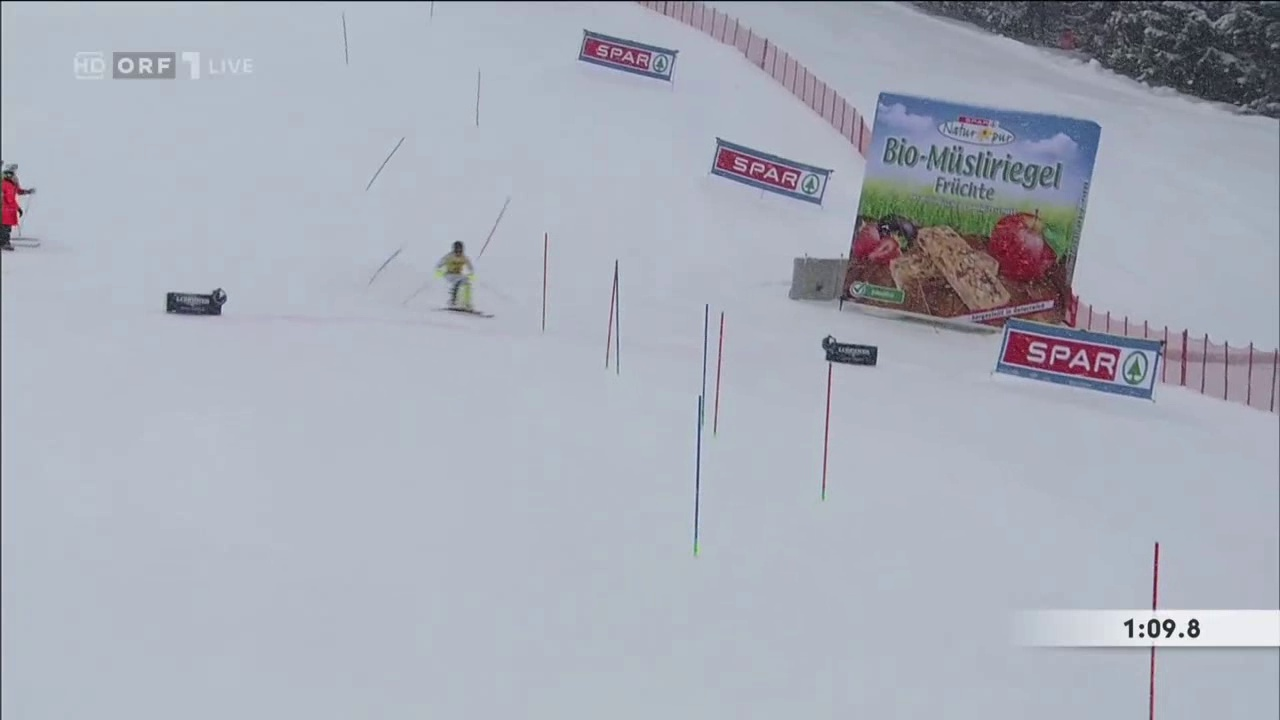spar: (1010, 329, 1155, 390), (718, 151, 829, 201), (585, 40, 677, 79), (939, 117, 1017, 148)
